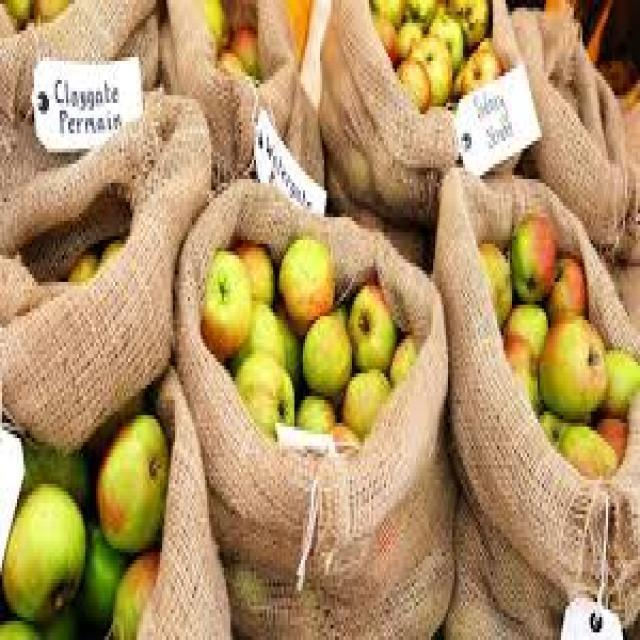Apple: (0, 480, 85, 625), (96, 412, 169, 552), (537, 312, 606, 419), (200, 248, 252, 358), (277, 236, 335, 332), (234, 350, 294, 442), (301, 308, 352, 396), (510, 209, 557, 301), (346, 282, 394, 369), (411, 35, 452, 108), (546, 255, 587, 324), (456, 48, 504, 99)
